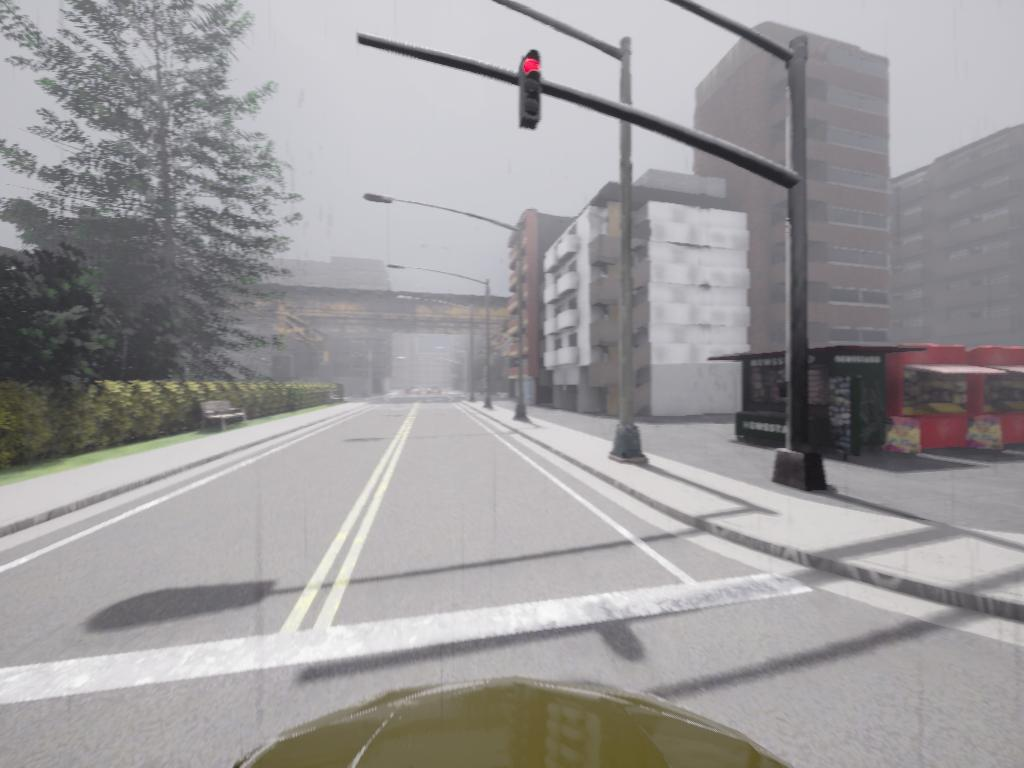traffic_light: (523, 50, 543, 124)
